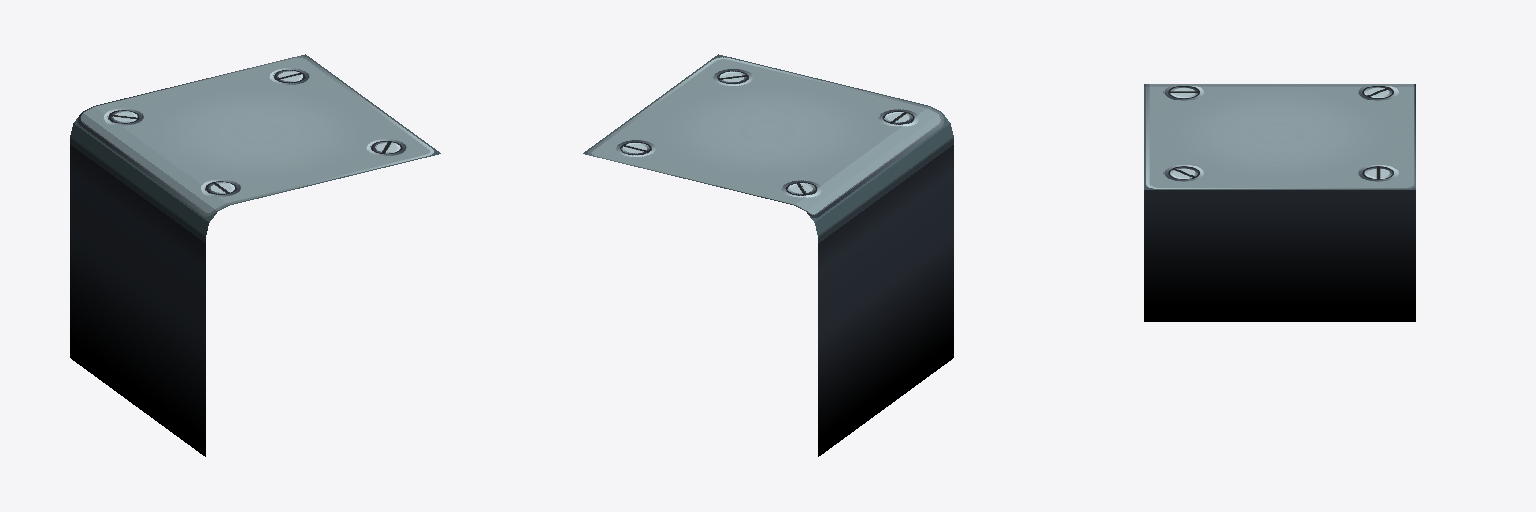
3 renders of one model, left to right at view 1: azimuth 30°, elevation 25°; view 2: azimuth 150°, elevation 25°; view 3: azimuth 270°, elevation 25°, orthographic.
Parts seen in each view (by area): view 1: Floor_Block_Cube; view 2: Floor_Block_Cube; view 3: Floor_Block_Cube.
Part boxes in pixels (x1,y1,x2,y2): Floor_Block_Cube: (70, 54, 440, 456); Floor_Block_Cube: (583, 54, 953, 456); Floor_Block_Cube: (1144, 84, 1415, 321).
Size of the model in its own units: 2 by 2 by 2.
Materials: 1 (1 with a texture image).